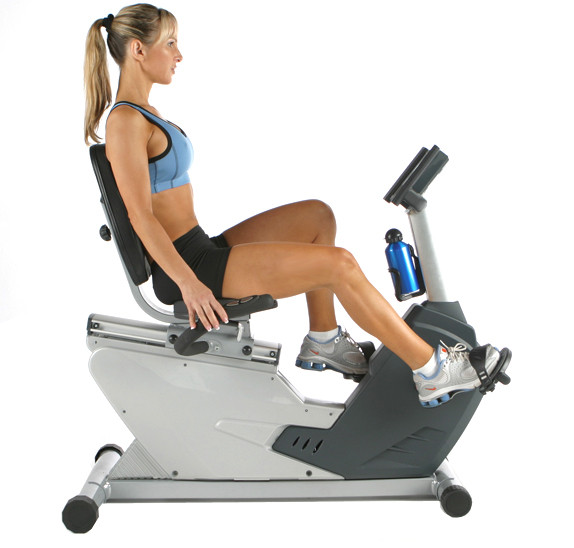gym_bike: (95, 278, 490, 536)
